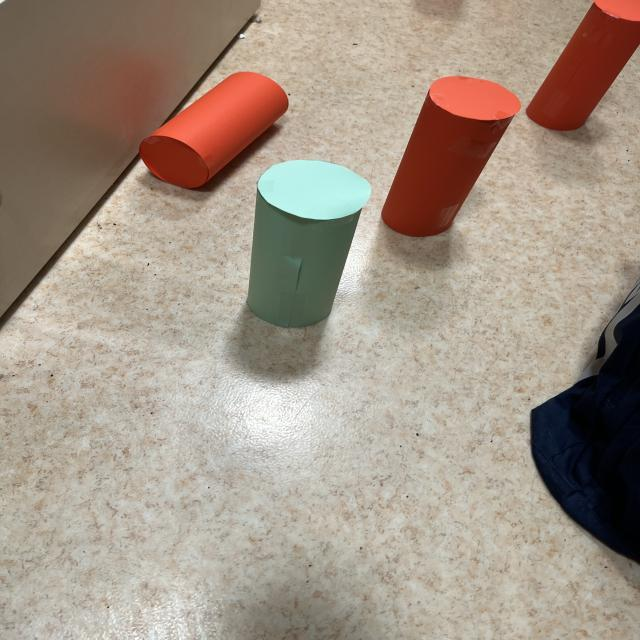przeszkoda: (382, 76, 520, 237), (247, 161, 370, 327), (139, 72, 288, 188), (526, 0, 640, 130)
